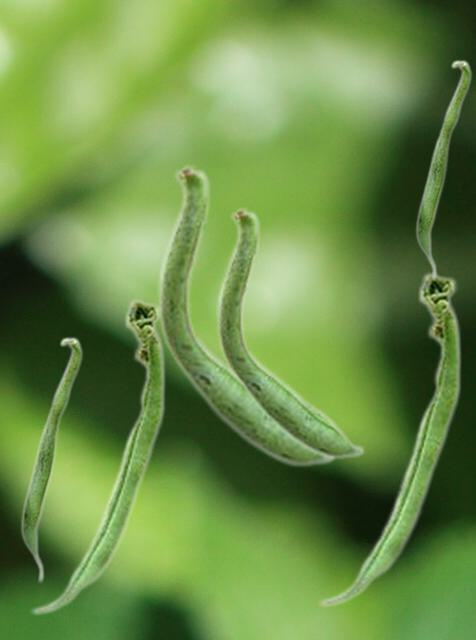french_bean: (157, 162, 335, 467), (318, 270, 461, 607), (30, 297, 165, 615), (216, 205, 364, 459), (20, 336, 82, 583), (415, 59, 471, 281)
